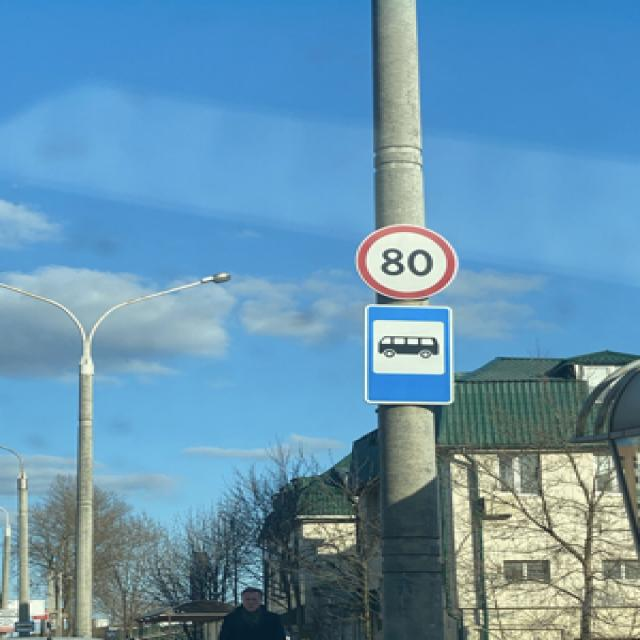speedlimit: (354, 222, 455, 296)
